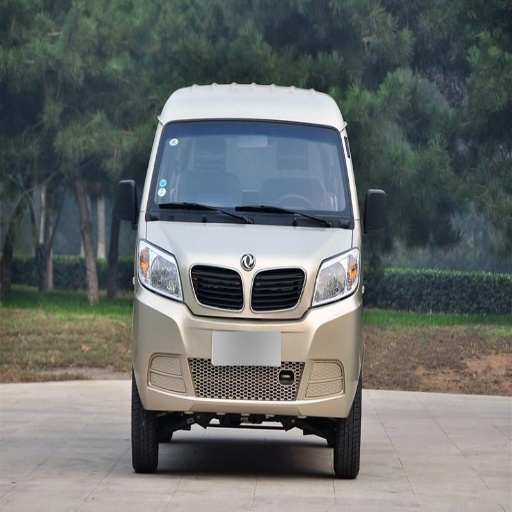front_bumper: (135, 252, 360, 427)
front_right_light: (137, 240, 182, 301)
hood: (147, 221, 352, 268)
